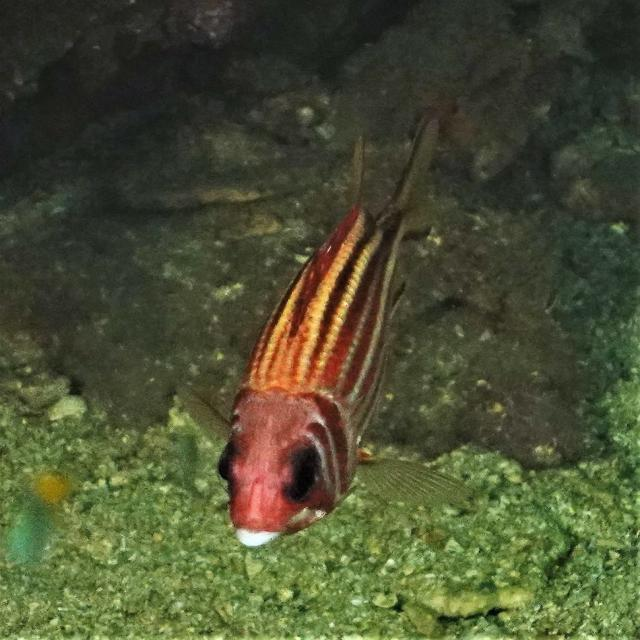Asker Baligi: (187, 95, 483, 572)
